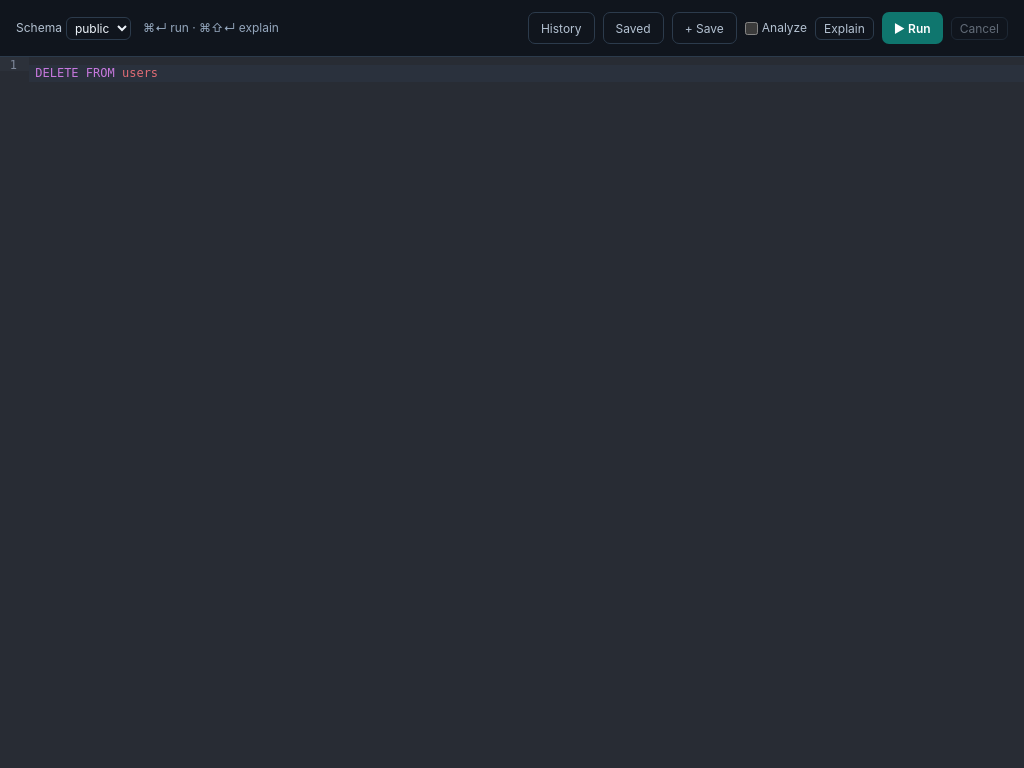
Scenario: SQLEditor — EXPLAIN › explains without executing by default
The width and height of the screenshot is (1024, 768).
Click the button "Explain" at (844, 28), box [815, 16, 874, 40]
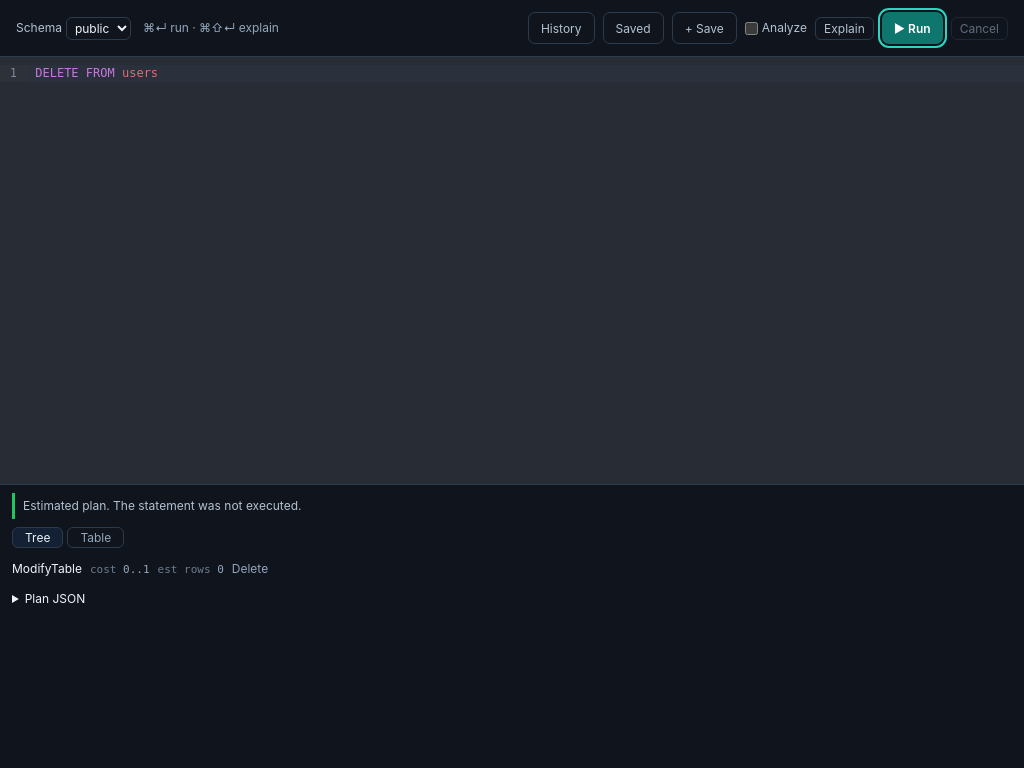
Now the text "Estimated plan. The statement was not executed." is shown, box [12, 493, 1012, 519]
